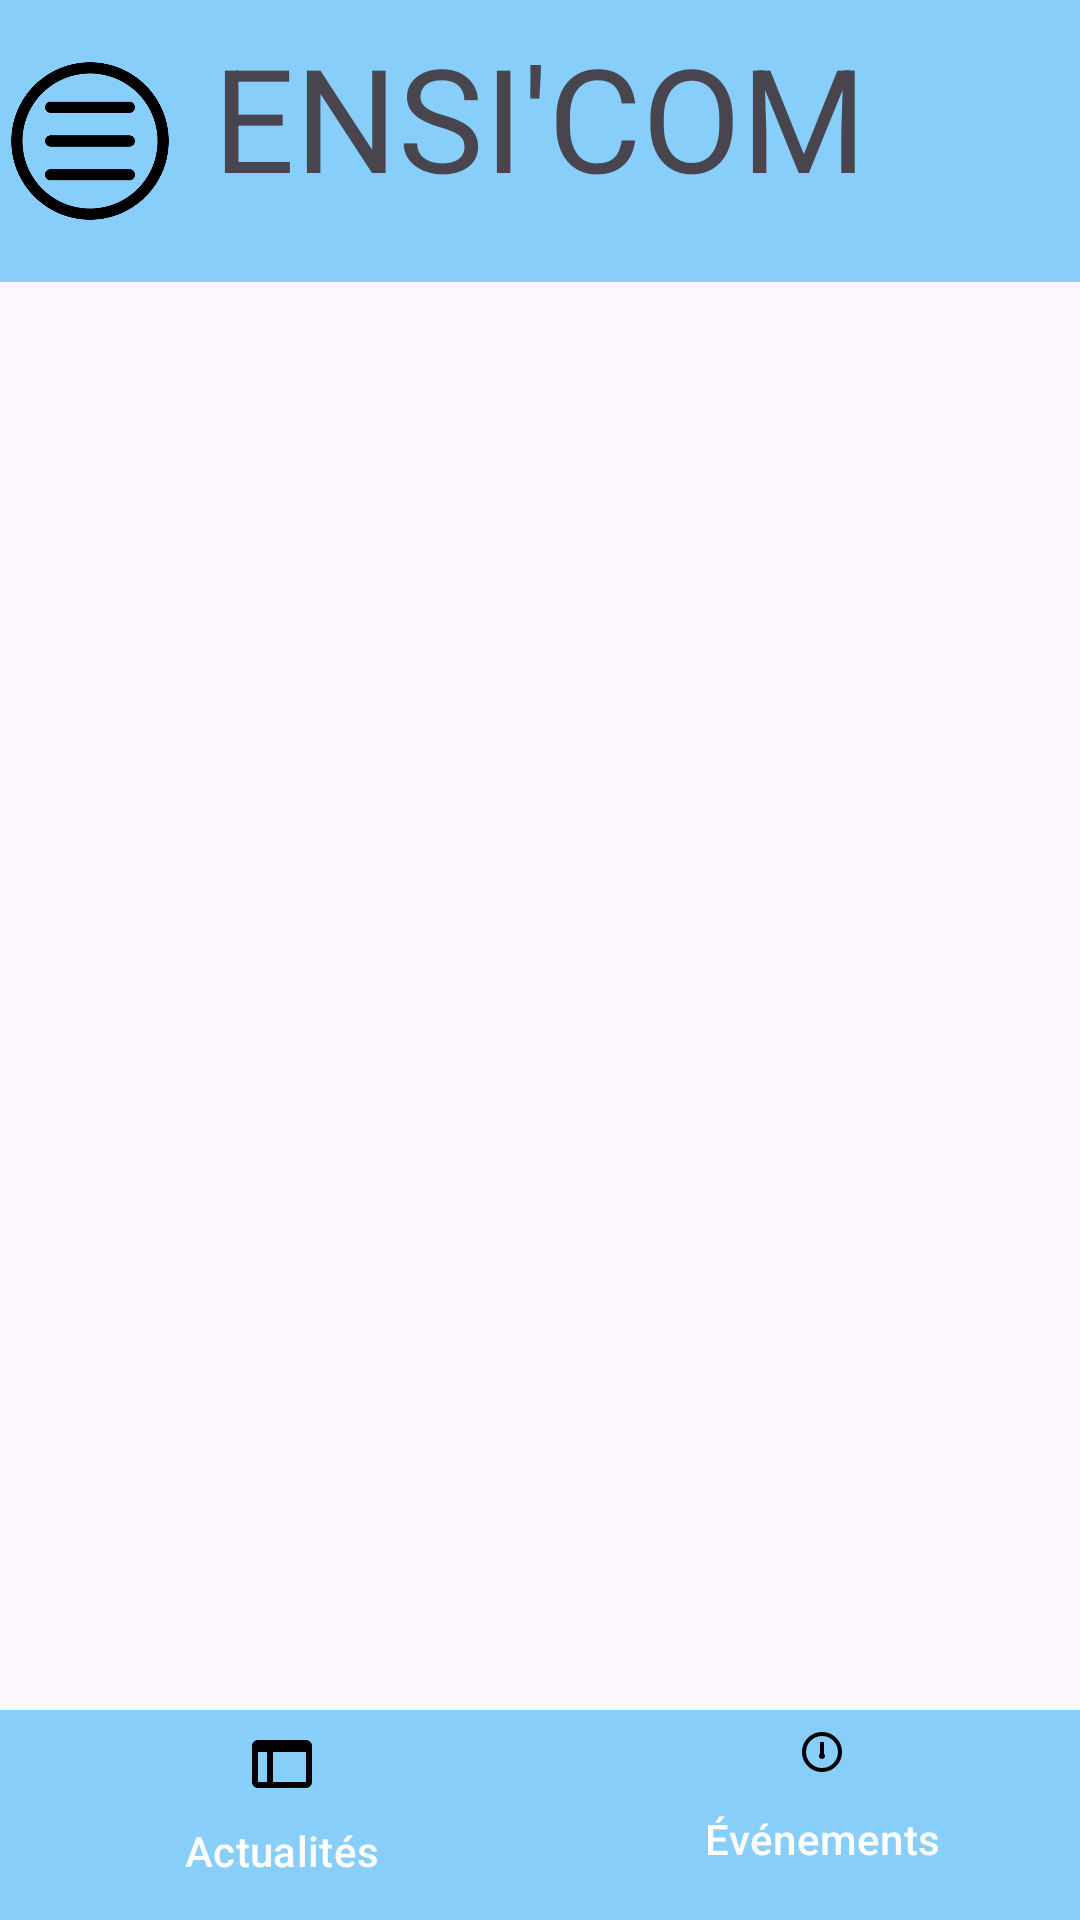

Icon bounding boxes for this 1080px×1920px phone screenshot, format [x1, y1, x2, y2]:
Menu Bouton: [11, 62, 169, 220]
